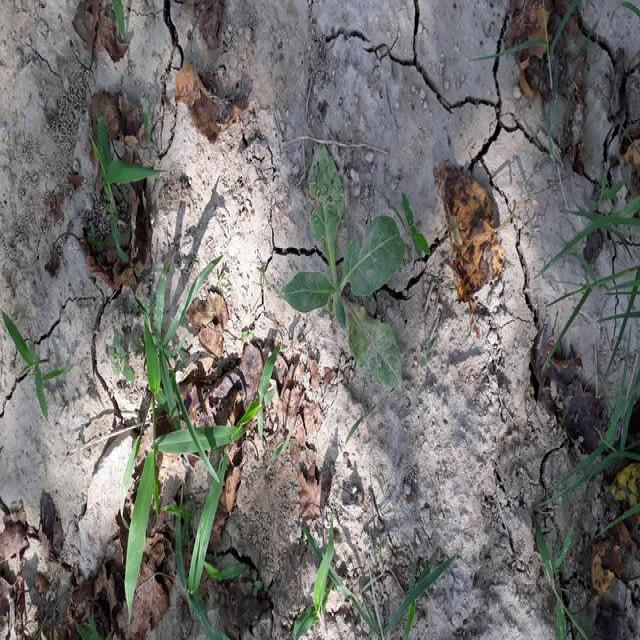crop: (282, 144, 414, 391)
